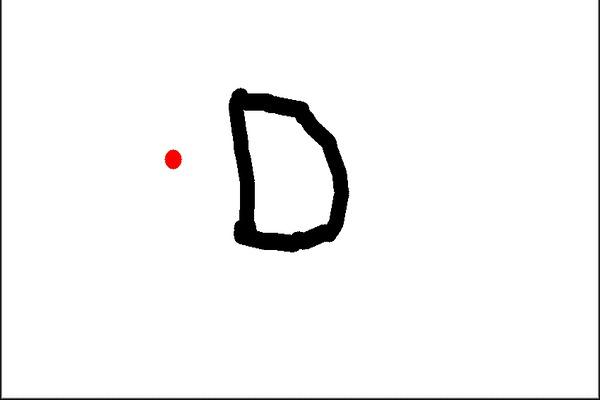D: (223, 76, 357, 254)
